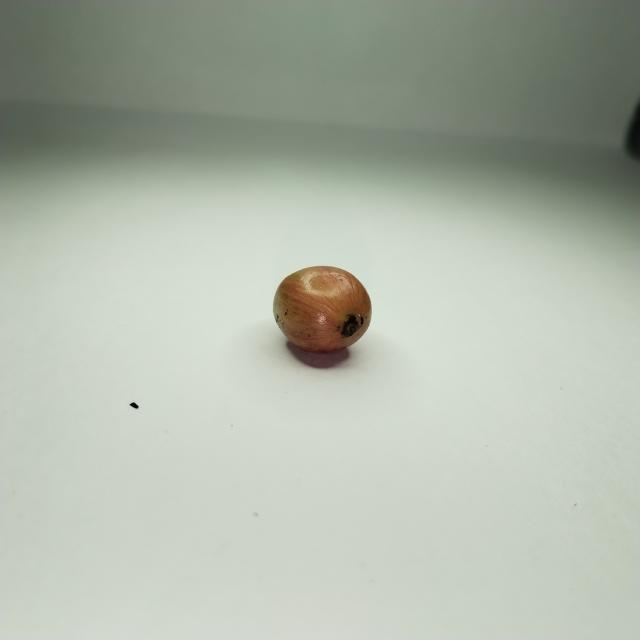Infectado: (273, 268, 372, 352)
